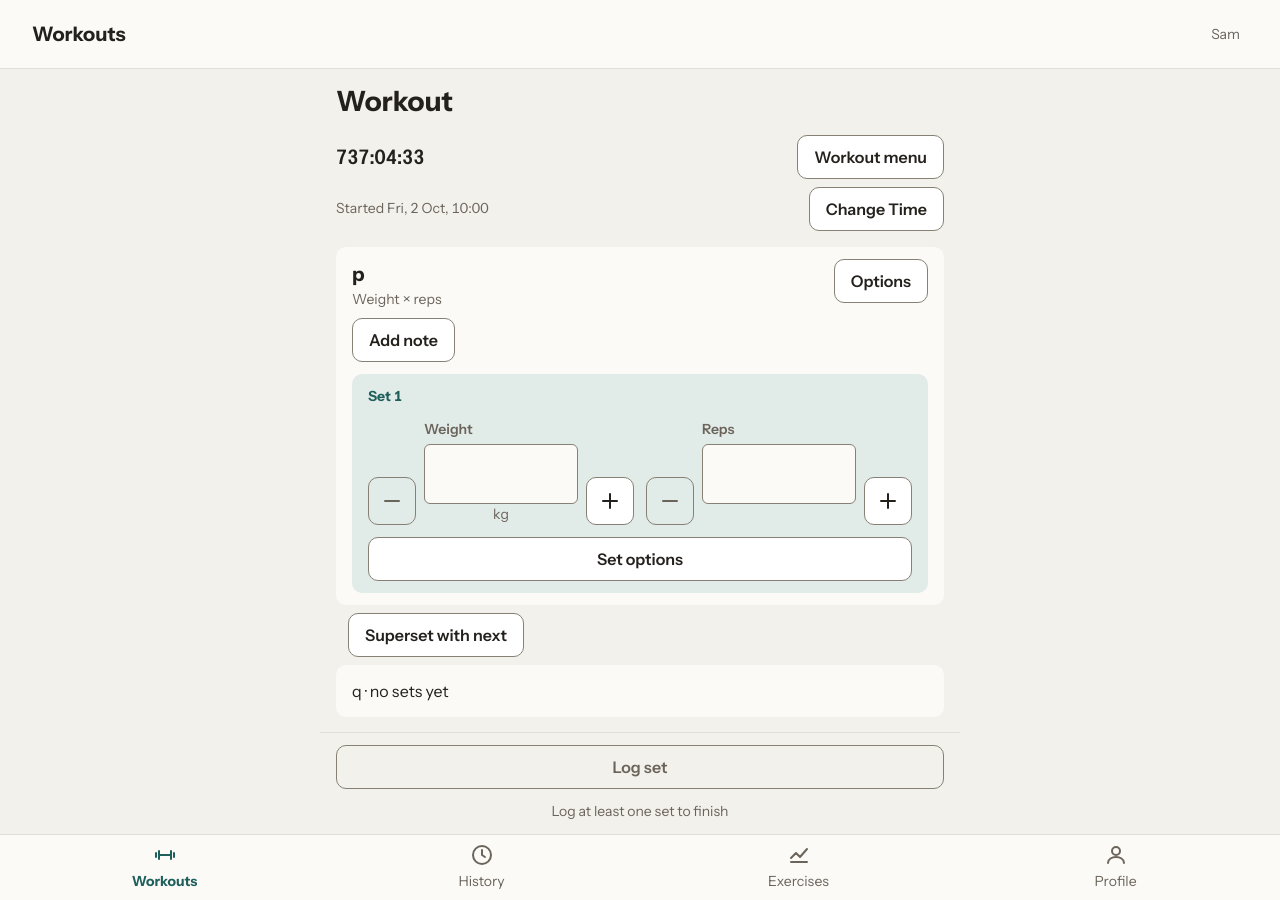
Test: 10.3 AC26 — moves and links stay inside a section › a section-free workout keeps today's behavior: no reason text, edges still disabled
Expected: the heading "Workout" is shown, [336, 84, 453, 118]
Click the button with aria-label "Options for ". click: (881, 281)
box: [834, 259, 928, 303]
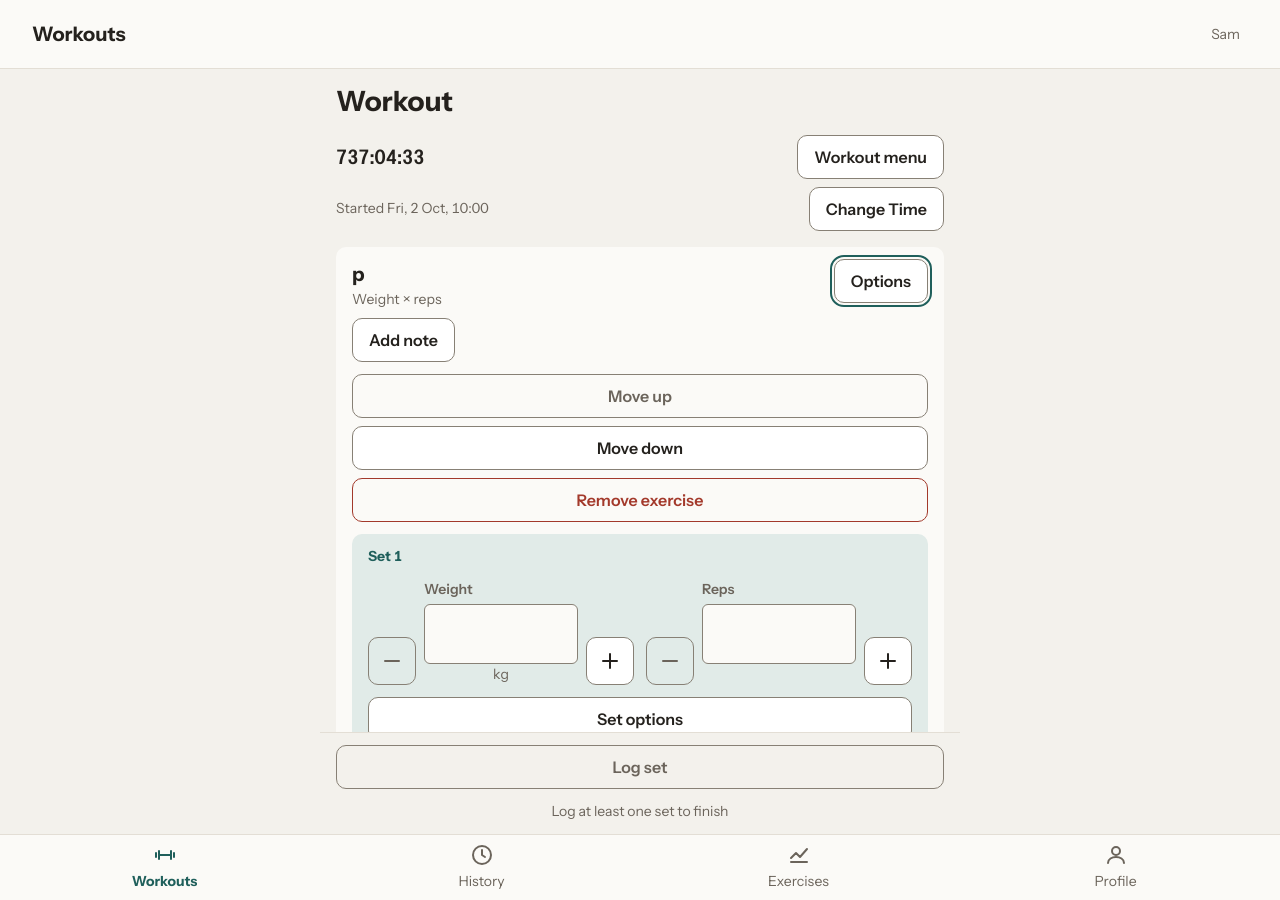
Now the button "Move up" is disabled, box [352, 374, 928, 418]
